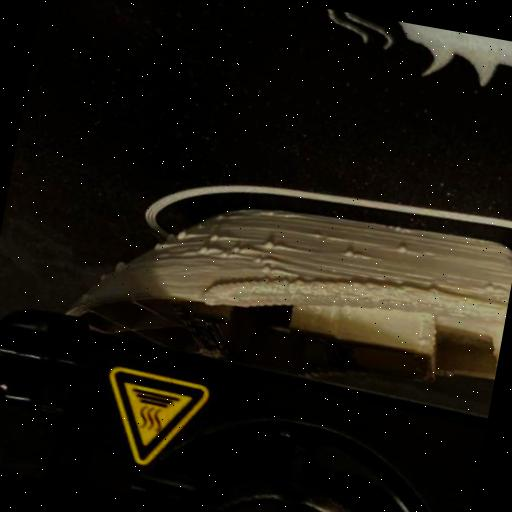blobs: (252, 259, 277, 281), (201, 224, 223, 246), (257, 232, 279, 254), (174, 225, 190, 245), (390, 241, 408, 258), (225, 242, 243, 258), (340, 245, 358, 261), (112, 258, 127, 277), (149, 238, 164, 254), (194, 243, 209, 258)
